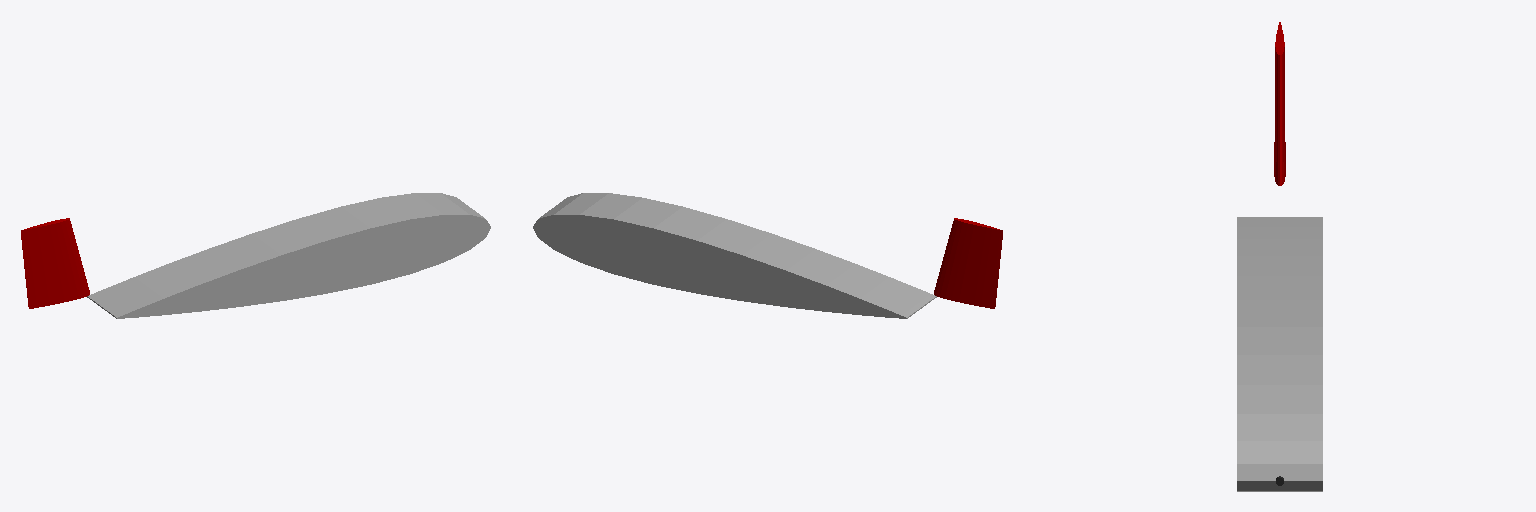
robot.urdf — drone_ea:
<robot name="drone_ea">

  <!-- ============  Materials  ============ -->
  <material name="grey"><color rgba="0.7 0.7 0.7 1"/></material>
  <material name="red"><color rgba="0.7 0 0 1"/></material>
  <material name="black"><color rgba="0.2 0.2 0.2 1"/></material>

  <!-- ============  Root  ============ -->
  <link name="root_link">
    <inertial>
      <origin xyz="0 0 0" rpy="0 0 0"/>
      <mass value="0"/>
      <inertia ixx="0" ixy="0" ixz="0" iyy="0" iyz="0" izz="0"/>
    </inertial>
  </link>

  <!-- ============  Fuselage  ============ -->
  <joint name="fixed_joint_base_fuselage" type="fixed">
    <parent link="root_link"/>
    <child  link="fuselage"/>
    <origin xyz="0 0 0" rpy="3.141592653589793 0 0"/>
  </joint>

  <link name="fuselage">
    <inertial>
      <origin xyz="-0.275 0 -0.04" rpy="0 0 0"/>
      <mass value="0.5"/>
      <inertia ixx="2.9015955e-04" ixy="0" ixz="0"
              iyy="7.4080147e-03" iyz="0"
              izz="7.4511885e-03"/>
    </inertial>

    <visual>
      <origin xyz="0 0 0" rpy="0 0 0"/>
      <geometry>
        <mesh filename="package://meshes/fuselage_only.stl" scale="0.00097 0.001 0.001"/>
      </geometry>
      <material name="grey"/>
    </visual>

    <!-- *** UNICA collisione del modello *** -->
    <collision>
      <!-- centro del fusolage a –0.35 m dall’origine del link -->
      <origin xyz="-0.4 0 0" rpy="0 0 0"/>
      <geometry><box size="0.80 0.10 0.10"/></geometry>
    </collision>

  </link>

  <joint name="fixed_joint_aero_frame_fuselage" type="fixed">
    <parent link="fuselage"/>
    <child  link="aero_frame_fuselage"/>
    <origin xyz="-0.275 0 -0.03" rpy="0 3.141592653589793 0"/>
  </joint>

  <link name="aero_frame_fuselage">
    <inertial>
      <origin xyz="0 0 0" rpy="0 0 0"/>
      <mass value="0"/>
      <inertia ixx="0" ixy="0" ixz="0" iyy="0" iyz="0" izz="0"/>
    </inertial>
  </link>

  <!-- ============  Elevator  ============ -->
  <joint name="elevator_pitch_joint" type="revolute">
    <parent link="fuselage"/>
    <child  link="elevator"/>
    <origin xyz="-0.75 0 -0.0" rpy="0 0 0"/>
    <axis xyz="0 1 0"/>
    <limit lower="-0.261799" upper="0.261799" effort="5" velocity="2"/>
    <dynamics damping="1" friction="0"/>
  </joint>

  <link name="elevator">
    <inertial>
      <origin xyz="-0.0434 0 0" rpy="0 0 0"/>
      <mass value="0.05"/>
      <inertia ixx="2.083333e-04" ixy="0" ixz="0" iyy="7.083333e-04" iyz="0" izz="8.333333e-04"/>
    </inertial>
    <visual>
      <origin xyz="0 0 0" rpy="0 0 0"/>
      <geometry><mesh filename="package://meshes/elevator.stl" scale="0.0007 0.0012 0.001"/></geometry>
      <material name="grey"/>
    </visual>
    <collision>
      <!-- il bordo di attacco dell’elevator coincide con l’origine del link
          (hinge line) → centro a –0.055 m -->
      <origin xyz="-0.1 0 0" rpy="0 0 0"/>
      <!-- chord = 0.11 thickness = 0.02 span = 0.30 -->
      <geometry><box size="0.2 0.3 0.05"/></geometry>
    </collision>
  </link>

  <!-- nuovo frame aerodinamico elevator -->
  <joint name="fixed_joint_aero_frame_elevator" type="fixed">
    <parent link="elevator"/>
    <child  link="aero_frame_elevator"/>
    <!-- COM elevator è all'origine del link -->
    <origin xyz="-0.0434 0 0" rpy="0 3.141592653589793 0"/>
  </joint>

  <link name="aero_frame_elevator">
    <inertial><origin xyz="0 0 0" rpy="0 0 0"/><mass value="0"/><inertia ixx="0" ixy="0" ixz="0" iyy="0" iyz="0" izz="0"/></inertial>
  </link>

  <!-- ============  Rudder  ============ -->
  <joint name="rudder_yaw_joint" type="revolute">
    <parent link="elevator"/>
    <child  link="rudder"/>
    <origin xyz="-0.0 0 0" rpy="0 0 0"/>
    <axis xyz="0 0 1"/>
    <limit lower="-0.523599" upper="0.523599" effort="3" velocity="2.5"/>
    <dynamics damping="1" friction="0"/>
  </joint>

  <link name="rudder">
    <inertial>
      <origin xyz="-0.0372 0 -0.08" rpy="0 0 0"/>
      <mass value="0.02"/>
      <inertia ixx="5.283333e-05" ixy="0" ixz="0" iyy="7.083333e-05" iyz="0" izz="1.950000e-05"/>
    </inertial>
    <visual>
      <origin xyz="0 0 0" rpy="0 0 0"/>
      <geometry><mesh filename="package://meshes/rudder.stl" scale="0.0008 0.001 0.001"/></geometry>
      <material name="red"/>
    </visual>
    <collision>
      <!-- centro geometrico in (-0.031, 0, -0.10) -->
      <origin xyz="-0.07 0 -0.8" rpy="0 0 0"/>
      <!-- chord = 0.062 thickness = 0.02 span = 0.20 -->
      <geometry><box size="0.15 0.05 0.15"/></geometry>
    </collision>
  </link>

  <!-- nuovo frame aerodinamico rudder -->
  <joint name="fixed_joint_aero_frame_rudder" type="fixed">
    <parent link="rudder"/>
    <child  link="aero_frame_rudder"/>
    <origin xyz="-0.0372 0 -0.08" rpy="0 3.141592653589793 0"/>
  </joint>

  <link name="aero_frame_rudder">
    <inertial><origin xyz="0 0 0" rpy="0 0 0"/><mass value="0"/><inertia ixx="0" ixy="0" ixz="0" iyy="0" iyz="0" izz="0"/></inertial>
  </link>

  <!-- ========================================================= -->
  <!--                      Right wing chain                     -->
  <!-- ========================================================= -->
  <joint name="fixed_joint_right_wing" type="fixed">
    <parent link="fuselage"/>
    <child  link="fuselage_right_0"/>
    <origin xyz="-0.275 0.05 -0.03"
            rpy="0 0 3.141592653589793"/>
  </joint>

  <link name="fuselage_right_0">
    <inertial>
      <origin xyz="0 0 0" rpy="0 0 0"/>
      <mass value="0.1"/>
      <!-- Box 0.20 × 0.10 × 0.05 m -->
      <inertia ixx="5.651e-05" ixy="0" ixz="0"
               iyy="5.651e-05" iyz="0"
               izz="5.651e-05"/>
    </inertial>
  </link>

  <joint name="joint_0_twist_right_wing" type="revolute">
    <parent link="fuselage_right_0"/>
    <child  link="fuselage_right_1"/>
    <origin xyz="0 0 0" rpy="0 0 0"/>
    <axis xyz="0 1 0"/>
    <limit effort="5" lower="-0.5235987756" upper="0.5235987756" velocity="3.665191429"/>
    <dynamics damping="1" friction="0"/>
  </joint>

  <link name="fuselage_right_1">
    <inertial><origin xyz="0 0 0" rpy="0 0 0"/><mass value="0"/><inertia ixx="0" ixy="0" ixz="0" iyy="0" iyz="0" izz="0"/></inertial>
  </link>

  <joint name="joint_1_fixed_right_wing" type="fixed">
    <parent link="fuselage_right_1"/>
    <child  link="fuselage_right_2"/>
    <origin xyz="0 0 0" rpy="0 0 0"/>
  </joint>

  <link name="fuselage_right_2">
    <inertial><origin xyz="0 0 0" rpy="0 0 0"/><mass value="0"/><inertia ixx="0" ixy="0" ixz="0" iyy="0" iyz="0" izz="0"/></inertial>
  </link>

  <joint name="joint_2_fixed_right_wing" type="fixed">
    <parent link="fuselage_right_2"/>
    <child  link="right_wing"/>
    <origin xyz="0 0 0" rpy="0 0 0"/>
  </joint>

  <link name="right_wing">
    <inertial>
      <origin xyz="0.034436664 -0.35 0" rpy="0 0 0"/>
      <mass value="0.059258"/>
      <!-- CAD based (kept from original, already consistente) -->
      <inertia ixx="3.161532e-03" ixy="0" ixz="0"
               iyy="1.312526e-04" iyz="0"
               izz="3.290610e-03"/>
    </inertial>
    <visual>
      <origin xyz="0 0 0" rpy="0 0 0"/>
      <geometry>
        <mesh filename="package://meshes/wing0009.stl" scale="0.2 0.7 0.2"/>
      </geometry>
      <material name="red"/>
    </visual>
    <collision>
      <!-- centro a ( +0.034 , –0.40 , 0 ) come il COM CAD -->
      <origin xyz="0.034  -0.40  0.0" rpy="0 0 0"/>
      <!-- chord = 0.20 thickness = 0.02 half-span = 0.80  ⇒  span = 1.60 -->
      <geometry><box size="0.20 0.8 0.05"/></geometry>
    </collision>
  </link>

  <joint name="fixed_joint_aero_frame_right_wing" type="fixed">
    <parent link="right_wing"/>
    <child  link="aero_frame_right_wing"/>
    <origin xyz="0.034436664 -0.35 0" rpy="3.141592653589793 0 0"/>
  </joint>

  <link name="aero_frame_right_wing">
    <inertial><origin xyz="0 0 0" rpy="0 0 0"/><mass value="0"/><inertia ixx="0" ixy="0" ixz="0" iyy="0" iyz="0" izz="0"/></inertial>
  </link>

  <!-- ========================================================= -->
  <!--                      Left wing chain                      -->
  <!-- ========================================================= -->
  <joint name="fixed_joint_left_wing" type="fixed">
    <parent link="fuselage"/>
    <child  link="fuselage_left_0"/>
    <origin xyz="-0.275 -0.05 -0.03"
            rpy="0 3.141592653589793 0"/>
  </joint>

  <link name="fuselage_left_0">
    <inertial>
      <origin xyz="0 0 0" rpy="0 0 0"/>
      <mass value="0.1"/>
      <inertia ixx="5.651e-05" ixy="0" ixz="0"
               iyy="5.651e-05" iyz="0"
               izz="5.651e-05"/>
    </inertial>

  </link>

  <joint name="joint_0_twist_left_wing" type="revolute">
    <parent link="fuselage_left_0"/>
    <child  link="fuselage_left_1"/>
    <origin xyz="0 0 0" rpy="0 0 0"/>
    <axis xyz="0 -1 0"/>
    <limit effort="5" lower="-0.5235987756" upper="0.5235987756" velocity="3.665191429"/>
    <dynamics damping="1" friction="0"/>
  </joint>

  <link name="fuselage_left_1">
    <inertial><origin xyz="0 0 0" rpy="0 0 0"/><mass value="0"/><inertia ixx="0" ixy="0" ixz="0" iyy="0" iyz="0" izz="0"/></inertial>
  </link>

  <joint name="joint_1_fixed_left_wing" type="fixed">
    <parent link="fuselage_left_1"/>
    <child  link="fuselage_left_2"/>
    <origin xyz="0 0 0" rpy="0 0 0"/>
  </joint>

  <link name="fuselage_left_2">
    <inertial><origin xyz="0 0 0" rpy="0 0 0"/><mass value="0"/><inertia ixx="0" ixy="0" ixz="0" iyy="0" iyz="0" izz="0"/></inertial>
  </link>

  <joint name="joint_2_fixed_left_wing" type="fixed">
    <parent link="fuselage_left_2"/>
    <child  link="left_wing"/>
    <origin xyz="0 0 0" rpy="0 0 0"/>
  </joint>

  <link name="left_wing">
    <inertial>
      <origin xyz="0.034436664 -0.35 0" rpy="0 0 0"/>
      <mass value="0.059258"/>
      <inertia ixx="3.161532e-03" ixy="0" ixz="0"
               iyy="1.312526e-04" iyz="0"
               izz="3.290610e-03"/>
    </inertial>
    <visual>
      <origin xyz="0 0 0" rpy="0 0 0"/>
      <geometry>
        <mesh filename="package://meshes/wing0009.stl" scale="0.2 0.7 0.2"/>
      </geometry>
      <material name="red"/>
    </visual>
    <collision>
      <origin xyz="0.034  -0.40  0.0" rpy="0 0 0"/>
      <geometry><box size="0.20 0.8 0.05"/></geometry>
    </collision>
  </link>

  <joint name="fixed_joint_aero_frame_left_wing" type="fixed">
    <parent link="left_wing"/>
    <child  link="aero_frame_left_wing"/>
    <origin xyz="0.034436664 -0.35 0" rpy="0 0 0"/>
  </joint>

  <link name="aero_frame_left_wing">
    <inertial><origin xyz="0 0 0" rpy="0 0 0"/><mass value="0"/><inertia ixx="0" ixy="0" ixz="0" iyy="0" iyz="0" izz="0"/></inertial>
  </link>

  <!-- ========================================================= -->
  <!--                       Prop frame                          -->
  <!-- ========================================================= -->
  <joint name="fixed_joint_prop_frame_fuselage_0" type="fixed">
    <parent link="fuselage"/>
    <child  link="prop_frame_fuselage_0"/>
    <origin xyz="0 0 0" rpy="3.141592653589793 -1.5707963267948966 0"/>
  </joint>

  <link name="prop_frame_fuselage_0">
    <inertial>
      <origin xyz="0 0 0" rpy="0 0 0"/>
      <mass value="0.031"/>
      <!-- slender cylinder r = 0.005, L irrelevant for spin axis -->
      <inertia ixx="3.7625e-05" ixy="0" ixz="0"
               iyy="3.7625e-05" iyz="0"
               izz="7.5000e-05"/>
    </inertial>
    <visual>
      <origin xyz="0 0 0" rpy="0 0 0"/>
      <geometry><cylinder radius="0.005" length="0.005"/></geometry>
      <material name="black"/>
    </visual>
    <!-- niente collision qui -->
  </link>

</robot>

--- Render facts (derived) ---
The picture shows the robot from 3 angles, left to right: view 1: azimuth 30°, elevation 25°; view 2: azimuth 150°, elevation 25°; view 3: azimuth 270°, elevation 25°; orthographic projection.
Model drone_ea with 18 links and 17 joints (4 revolute, 13 fixed), rooted at root_link, posed all joints at 0.
Visible links, largest first — view 1: fuselage, rudder; view 2: fuselage, rudder; view 3: fuselage, rudder.
Boxes of the visible links, <box> form: fuselage: <box>87,193,490,318</box>; rudder: <box>21,218,89,308</box>; fuselage: <box>533,193,936,318</box>; rudder: <box>934,218,1002,308</box>; fuselage: <box>1237,217,1322,491</box>; rudder: <box>1274,22,1285,185</box>.
Size in the robot's own frame: 0.8885 by 0.1 by 0.2324 metres.
2 mesh visuals loaded from 4 distinct referenced files (2 binary STL); not drawn: 3 (reference not matched to a file when rendering).